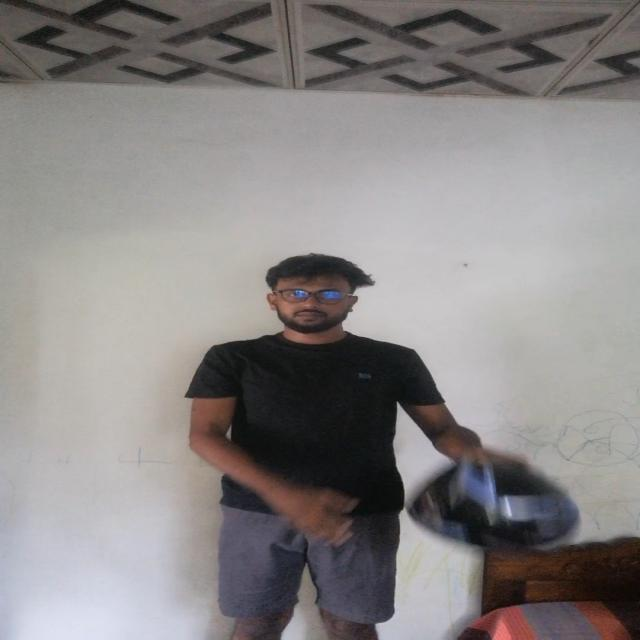Person: (187, 246, 437, 640)
